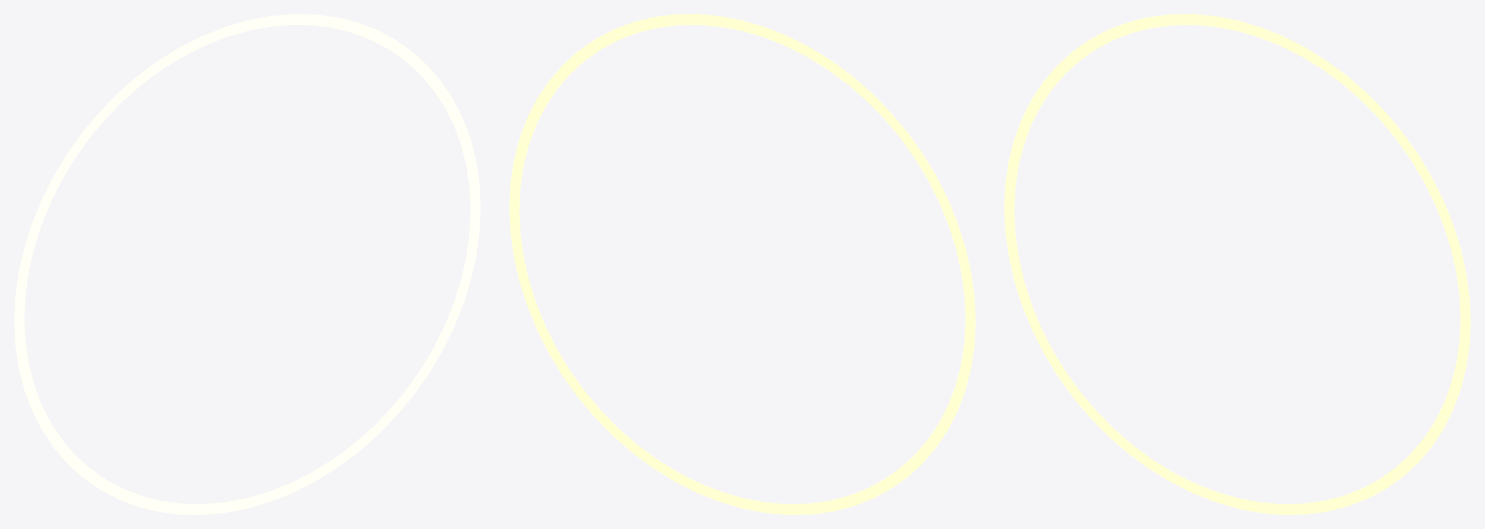
File: fate_landing_ring.glb
The picture shows the model from 3 angles, left to right: view 1: azimuth 30°, elevation 25°; view 2: azimuth 150°, elevation 25°; view 3: azimuth 330°, elevation 25°; orthographic projection.
Parts seen in each view (by area): view 1: fate_landing_ring; view 2: fate_landing_ring; view 3: fate_landing_ring.
Part boxes in pixels (<box>): fate_landing_ring: <box>14,14,480,514</box>; fate_landing_ring: <box>509,14,975,514</box>; fate_landing_ring: <box>1004,14,1470,514</box>.
Bounding box in the file's own units: 0.092 × 0.092 × 0.
